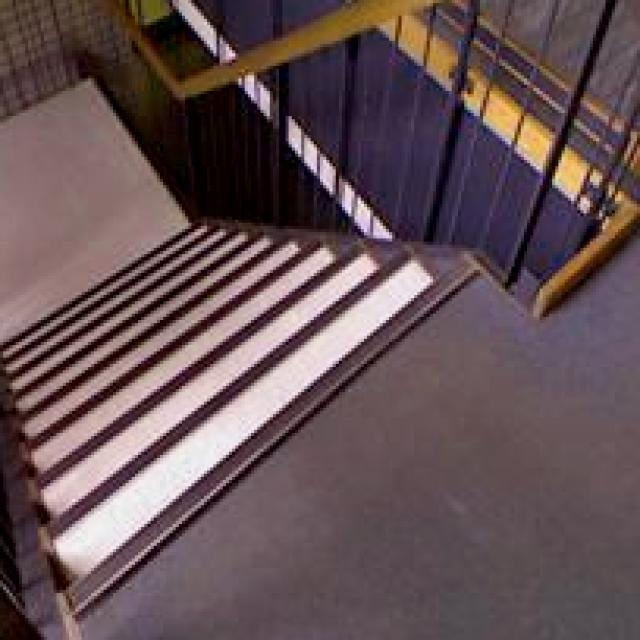downstair: (55, 334, 463, 629)
